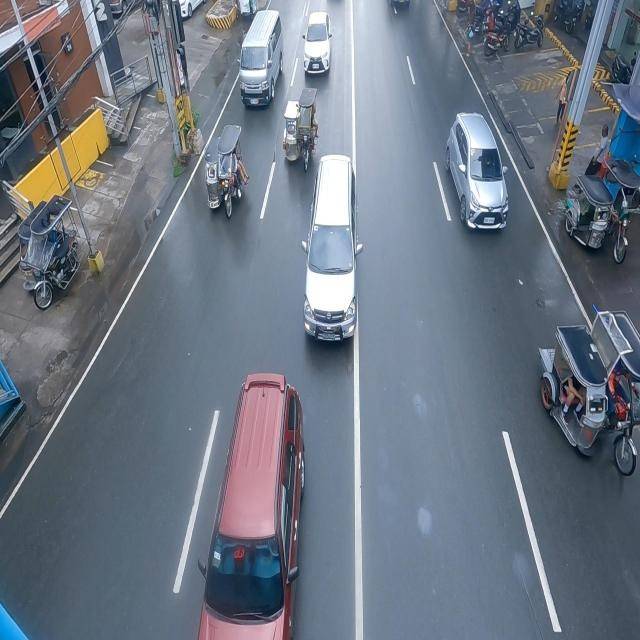Van: (240, 8, 284, 108)
